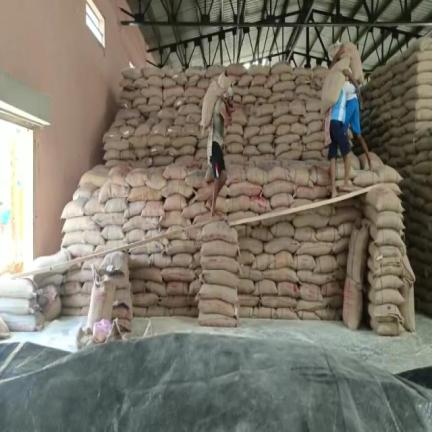Zone-Counting: (331, 43, 371, 165), (321, 57, 356, 196), (200, 72, 234, 215)
